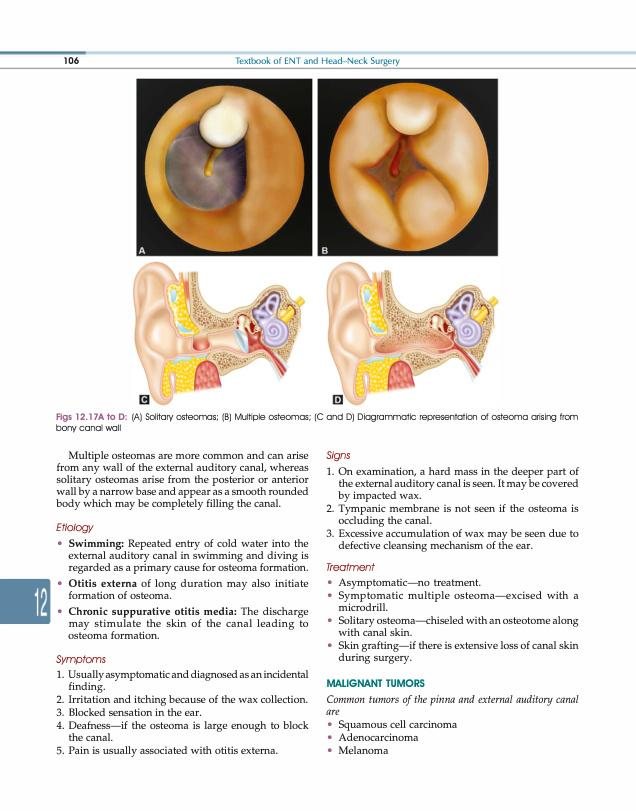caption: (54, 411, 580, 433), (137, 246, 147, 255), (320, 246, 330, 255), (140, 395, 149, 404), (334, 395, 342, 404)
header: (234, 56, 401, 67)
image: (136, 78, 313, 257), (322, 259, 502, 407), (132, 260, 306, 406)
list: (57, 537, 311, 641), (55, 668, 310, 759), (326, 576, 580, 666), (325, 466, 581, 553), (327, 719, 458, 756)
section-heading: (326, 678, 426, 688)
sub-section-heading: (67, 605, 238, 618), (68, 577, 138, 588), (68, 538, 124, 551), (55, 654, 107, 666), (54, 521, 95, 535), (326, 562, 376, 573), (325, 450, 351, 462)
text: (55, 449, 310, 511), (325, 693, 579, 716)
